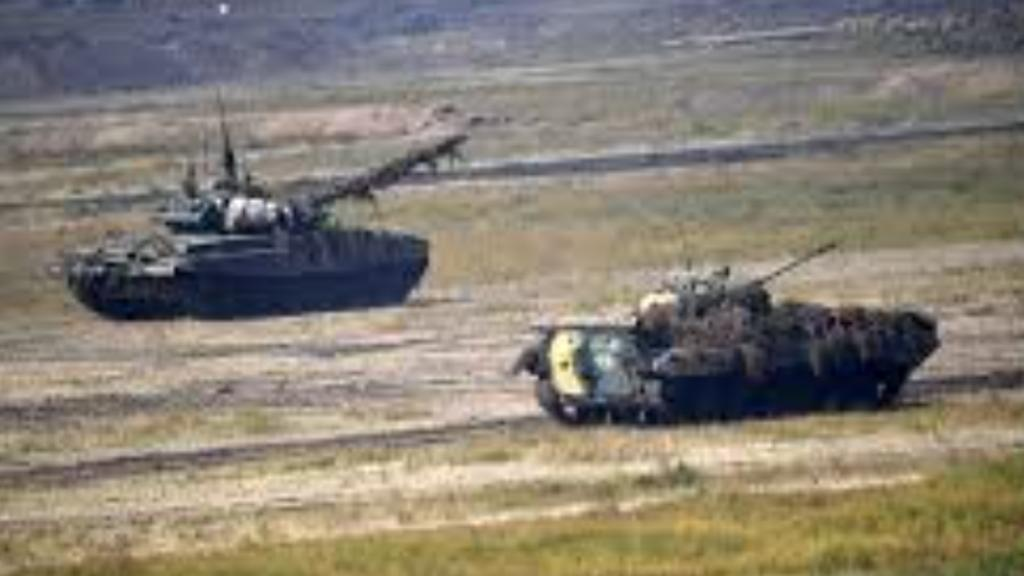APC-IFV: (521, 232, 946, 432)
TANK: (62, 122, 473, 327)
